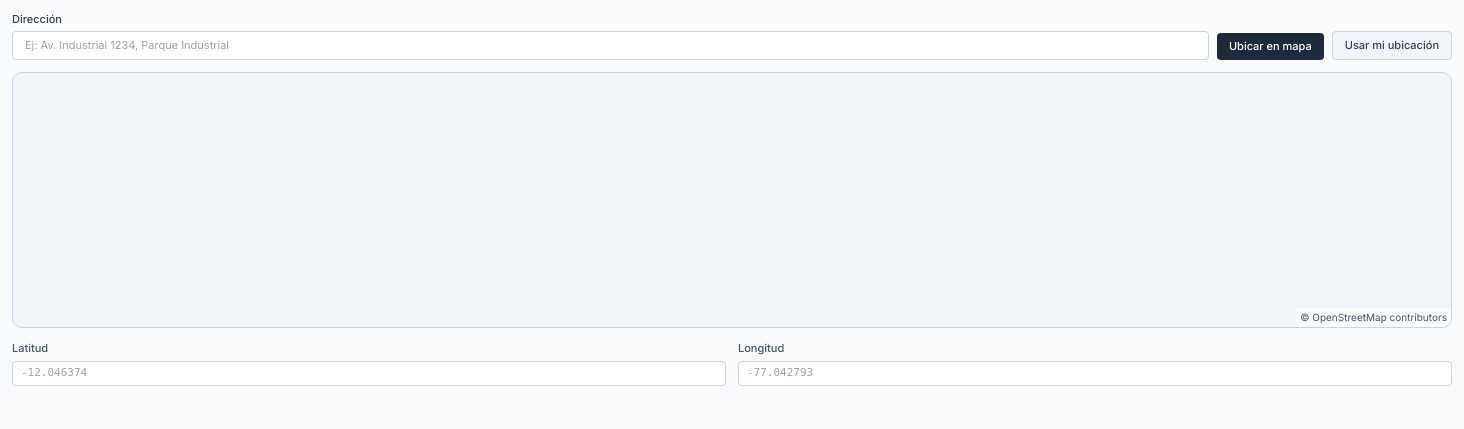
Scenario: F005.4 · Geolocalización de Sedes — Full E2E & Component Test Suite › Tier 2: Boundary & Corner Cases › T2-INPUT-01: Entering latitude > 90 in manual input displays inline validation error
Type "95.5" into the field labelled "Latitud" at (369, 374), box [12,361,726,386]
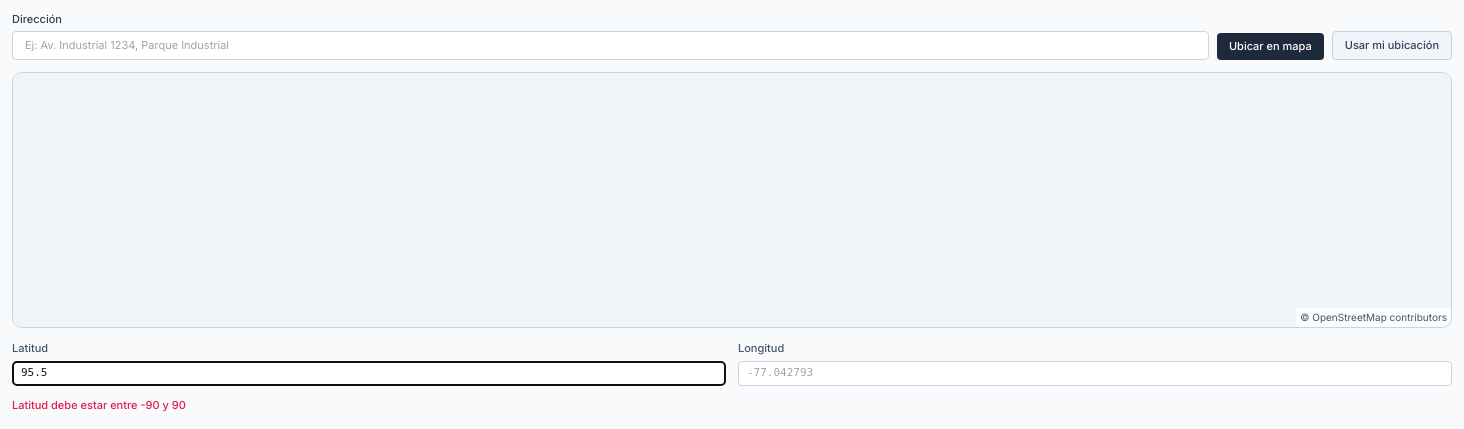
Now the message reads "Latitud debe estar entre -90 y 90", box [12,398,186,412]
